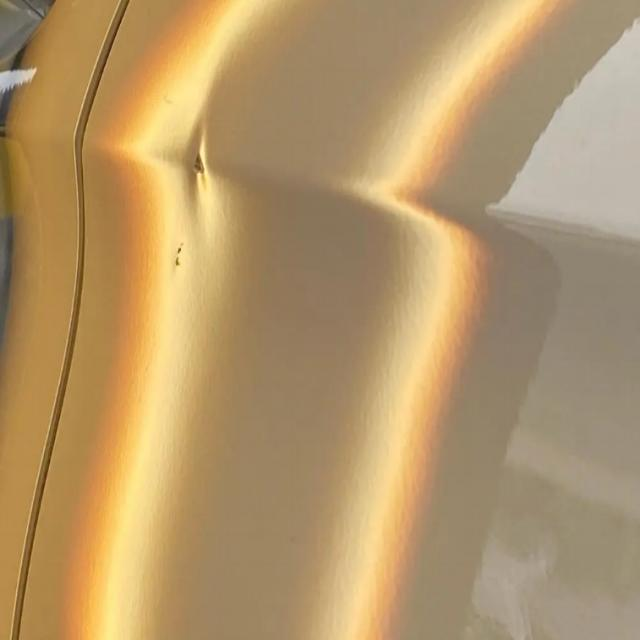dents: (151, 88, 226, 230), (161, 239, 202, 293)
